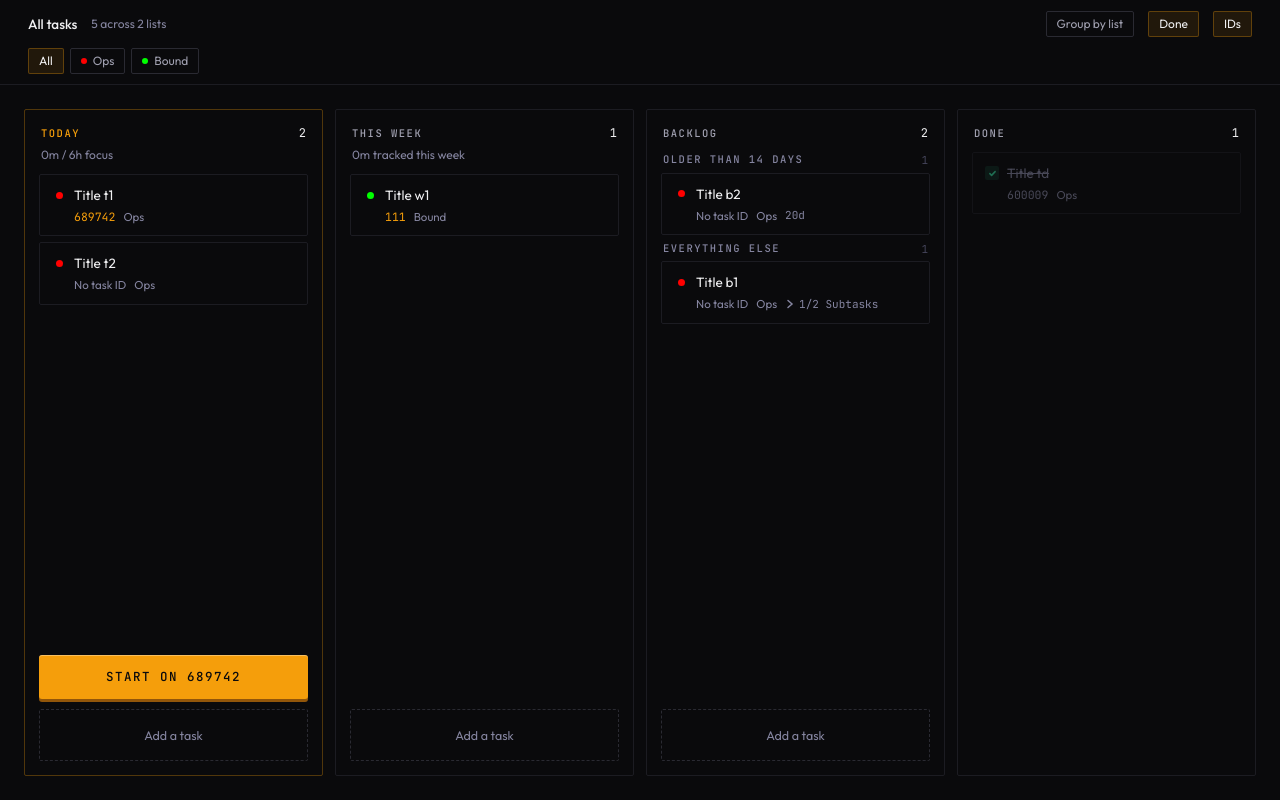
Test: PlanBoard — all scope › Done on: completed items appear only in Done; toggling off hides them and writes the persisted key (P10)
Expected: the text "Title td" is shown, left=1007, top=164, right=1049, bottom=182
Expected: the text "2" in the row of "Today" is shown, left=299, top=125, right=306, bottom=141
Click the button "Done" at [1174, 24], box left=1148, top=11, right=1199, bottom=37
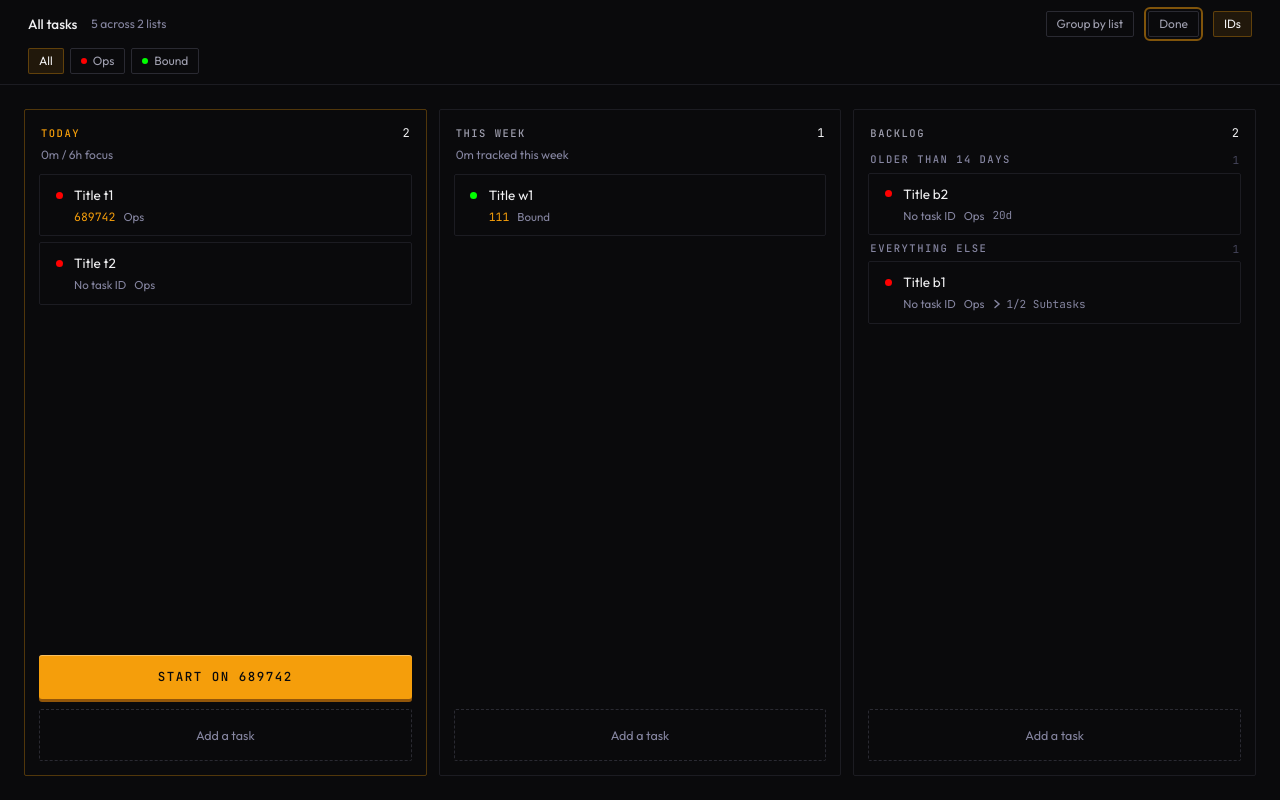
Expected: the button "Title td" is gone
